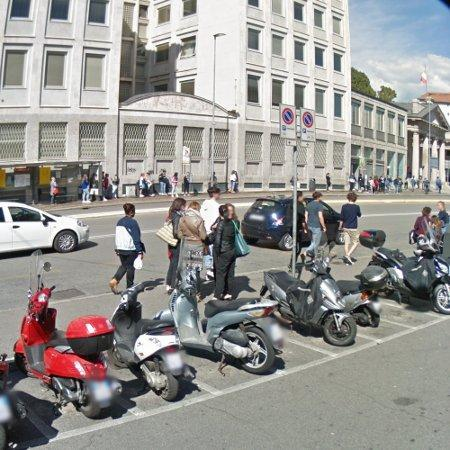motorcycles: (13, 286, 121, 418), (170, 269, 284, 374), (110, 284, 196, 401), (263, 259, 357, 346), (362, 231, 450, 315), (338, 266, 389, 328)
